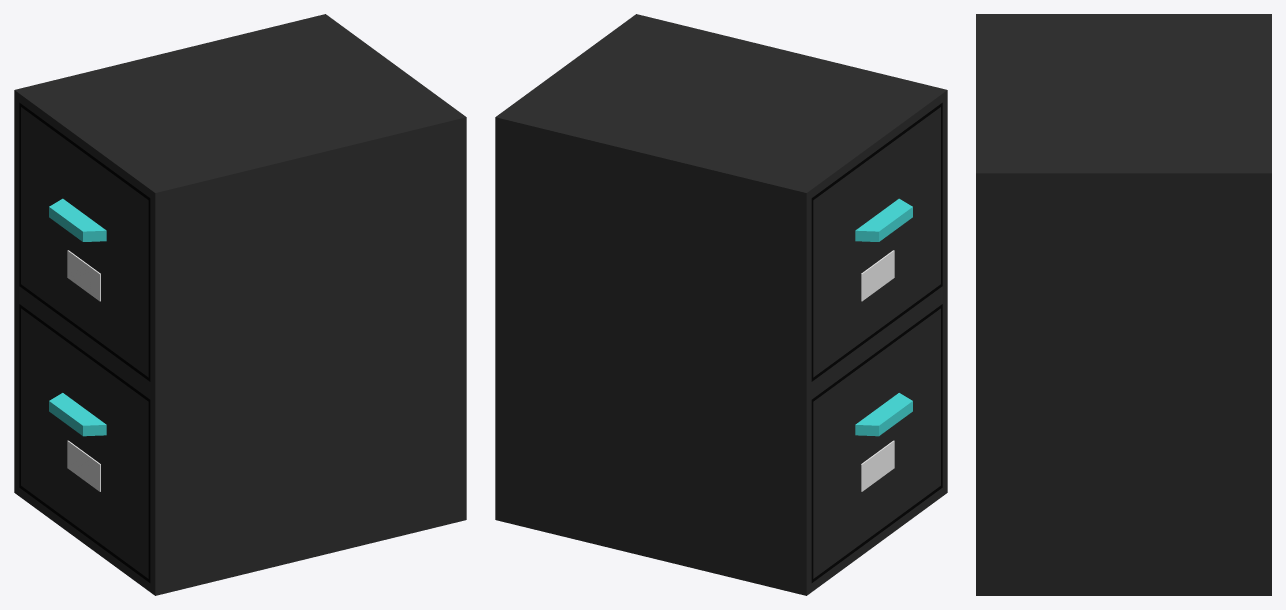
The model's file is Cabinet.FBX.
The picture shows the model from 3 angles, left to right: view 1: azimuth 30°, elevation 25°; view 2: azimuth 150°, elevation 25°; view 3: azimuth 270°, elevation 25°; orthographic projection. The views are drawn at different scales.
Parts seen in each view (by area): view 1: Cabinet; view 2: Cabinet; view 3: Cabinet.
Boxes of the visible parts, x1=… form: Cabinet: x1=14, y1=14, x2=466, y2=595; Cabinet: x1=495, y1=14, x2=947, y2=595; Cabinet: x1=976, y1=14, x2=1271, y2=595.
Size of the model in its own units: 23.76 by 27.7 by 17.57.
4 materials, 1 textured.
